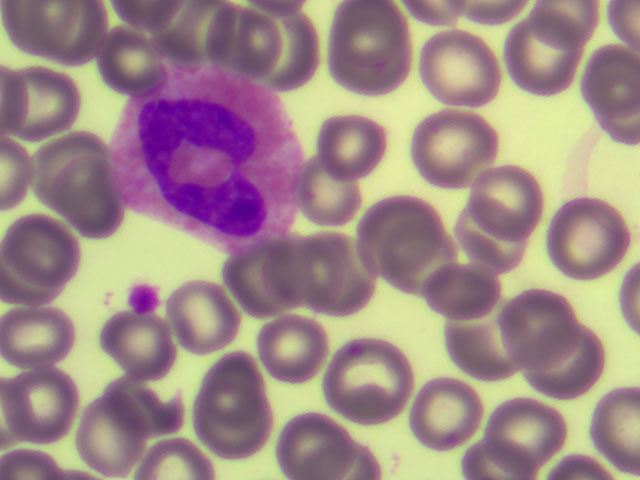Platelets: (129, 286, 158, 313)
RBC: (323, 337, 408, 424), (447, 293, 528, 380), (235, 7, 321, 83), (499, 289, 576, 373), (358, 201, 436, 279), (551, 199, 626, 280), (421, 32, 503, 106), (306, 231, 379, 314), (410, 114, 497, 180), (331, 20, 410, 92), (380, 216, 455, 291), (509, 15, 579, 94), (3, 369, 79, 441), (471, 161, 542, 237), (36, 130, 106, 207), (532, 320, 602, 396), (10, 210, 79, 286), (227, 248, 302, 315), (482, 401, 558, 467), (278, 417, 357, 480), (267, 241, 338, 311), (166, 283, 238, 350), (255, 318, 329, 383), (193, 389, 268, 453), (1, 309, 77, 372), (54, 159, 119, 232), (455, 203, 523, 272), (204, 7, 282, 67), (76, 397, 139, 471), (97, 318, 174, 378), (333, 2, 405, 66), (410, 378, 476, 447), (16, 64, 76, 138), (428, 255, 497, 318), (1, 238, 64, 307), (204, 359, 271, 423), (320, 116, 384, 182), (42, 1, 104, 67), (304, 153, 360, 225), (98, 24, 155, 94), (105, 383, 181, 434), (593, 1, 640, 81), (166, 4, 233, 58), (4, 1, 69, 56), (597, 62, 640, 145), (594, 389, 640, 465), (585, 47, 640, 109), (463, 438, 539, 480), (304, 443, 384, 480), (533, 1, 591, 50), (140, 442, 212, 480), (1, 140, 28, 207), (3, 452, 67, 480), (114, 1, 180, 27), (1, 62, 24, 134), (623, 263, 640, 337), (463, 1, 517, 24), (406, 1, 471, 19), (554, 459, 606, 480)
WBC: (118, 67, 301, 232)
